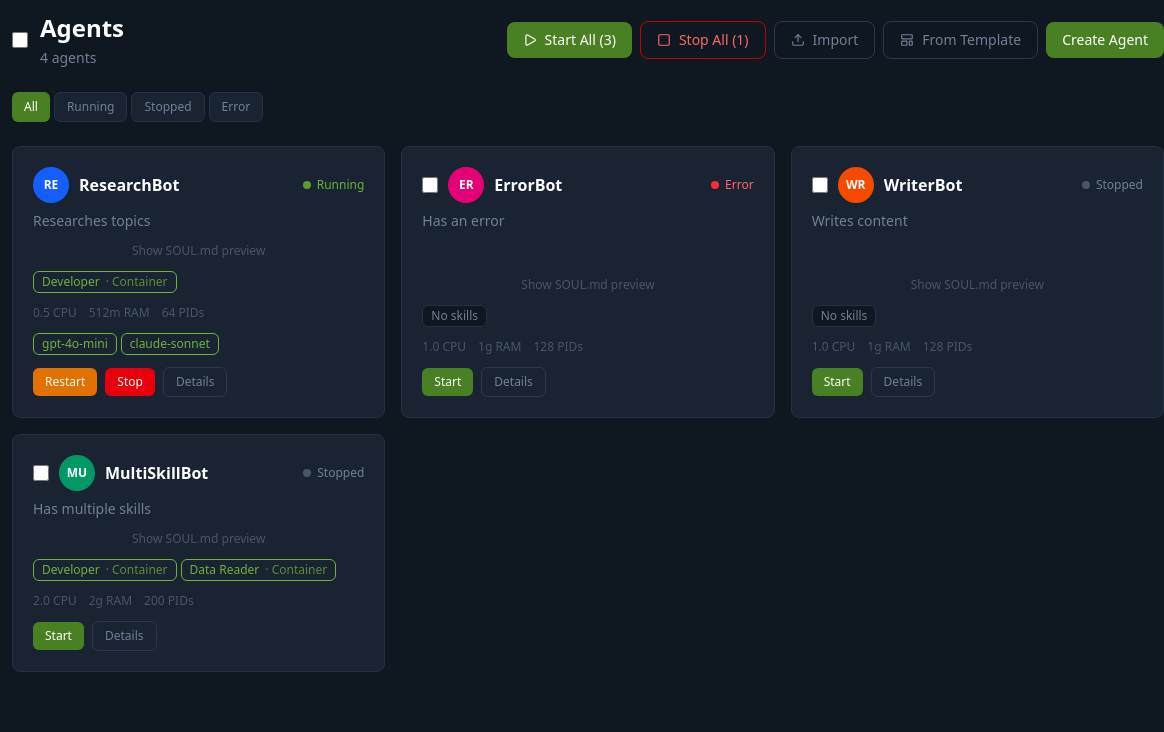
it: AgentsClient › start warnings (app#408) › a degraded start renders the warning banner on that agent only
The width and height of the screenshot is (1164, 732).
Expected: the link "WriterBot" is shown, [884, 173, 962, 197]
Click the button "Start" below "Writes content". click: (837, 382)
box: [812, 368, 863, 396]
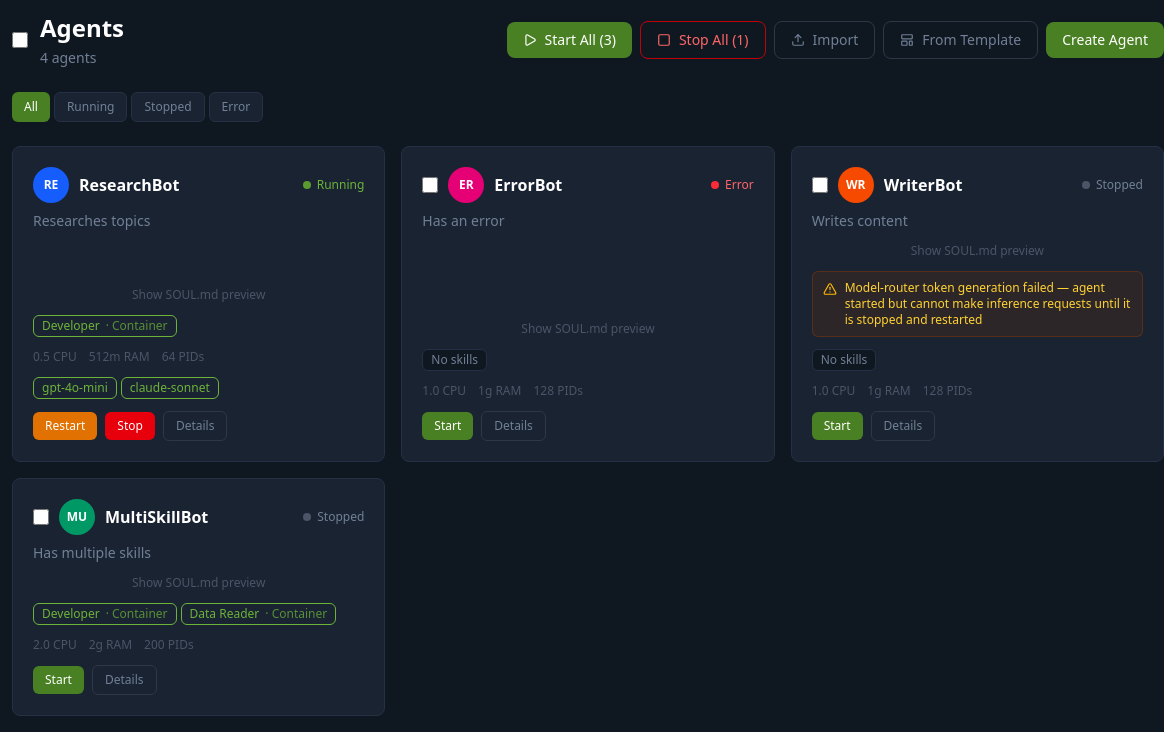
Expected: the element with test id "start-warnings-agent-2" is shown, [812, 271, 1143, 337]
Expected: the text "Model-router token generation failed — agent started but cannot make inference requests until it is stopped and restarte" is shown, [845, 279, 1130, 328]
